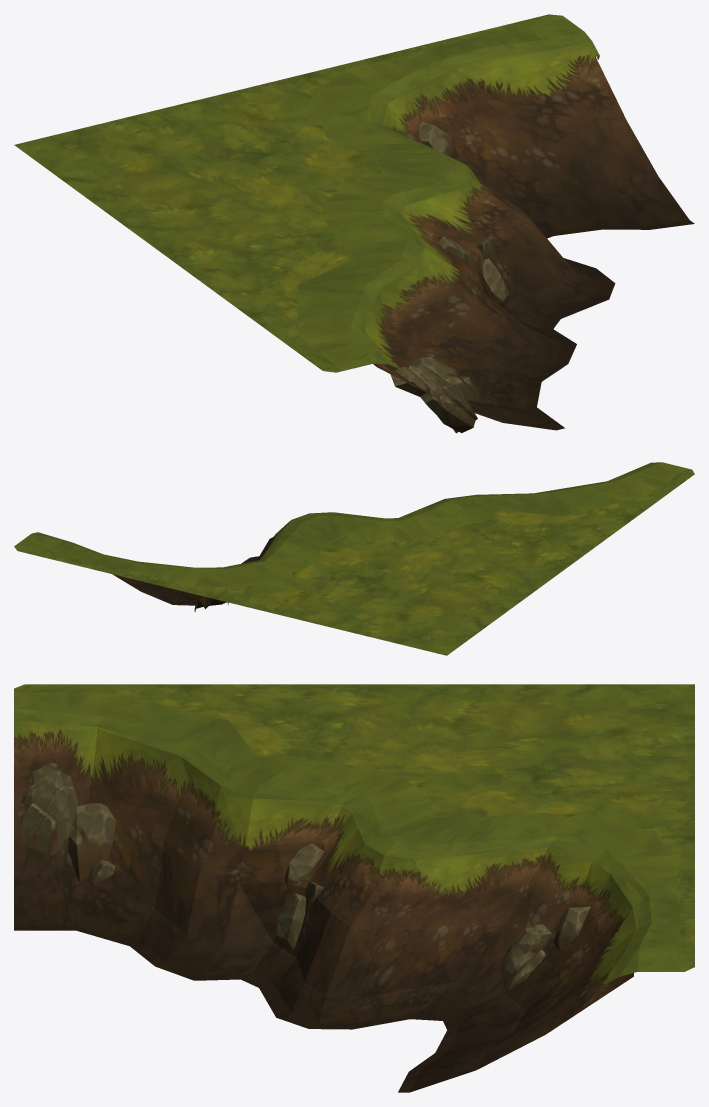
The model's file is tundra_concave_riverbed01.fbx.
3 renders of one model, top to bottom at view 1: azimuth 30°, elevation 25°; view 2: azimuth 150°, elevation 25°; view 3: azimuth 270°, elevation 25°, orthographic. The views are drawn at different scales.
Parts seen in each view (by area): view 1: obj3.008; view 2: obj3.008; view 3: obj3.008.
Part boxes in pixels (x1,y1,x2,y2): obj3.008: (14,14,694,433); obj3.008: (14,462,694,655); obj3.008: (14,684,694,1092).
Size of the model in its own units: 20.33 by 4.32 by 20.33.
